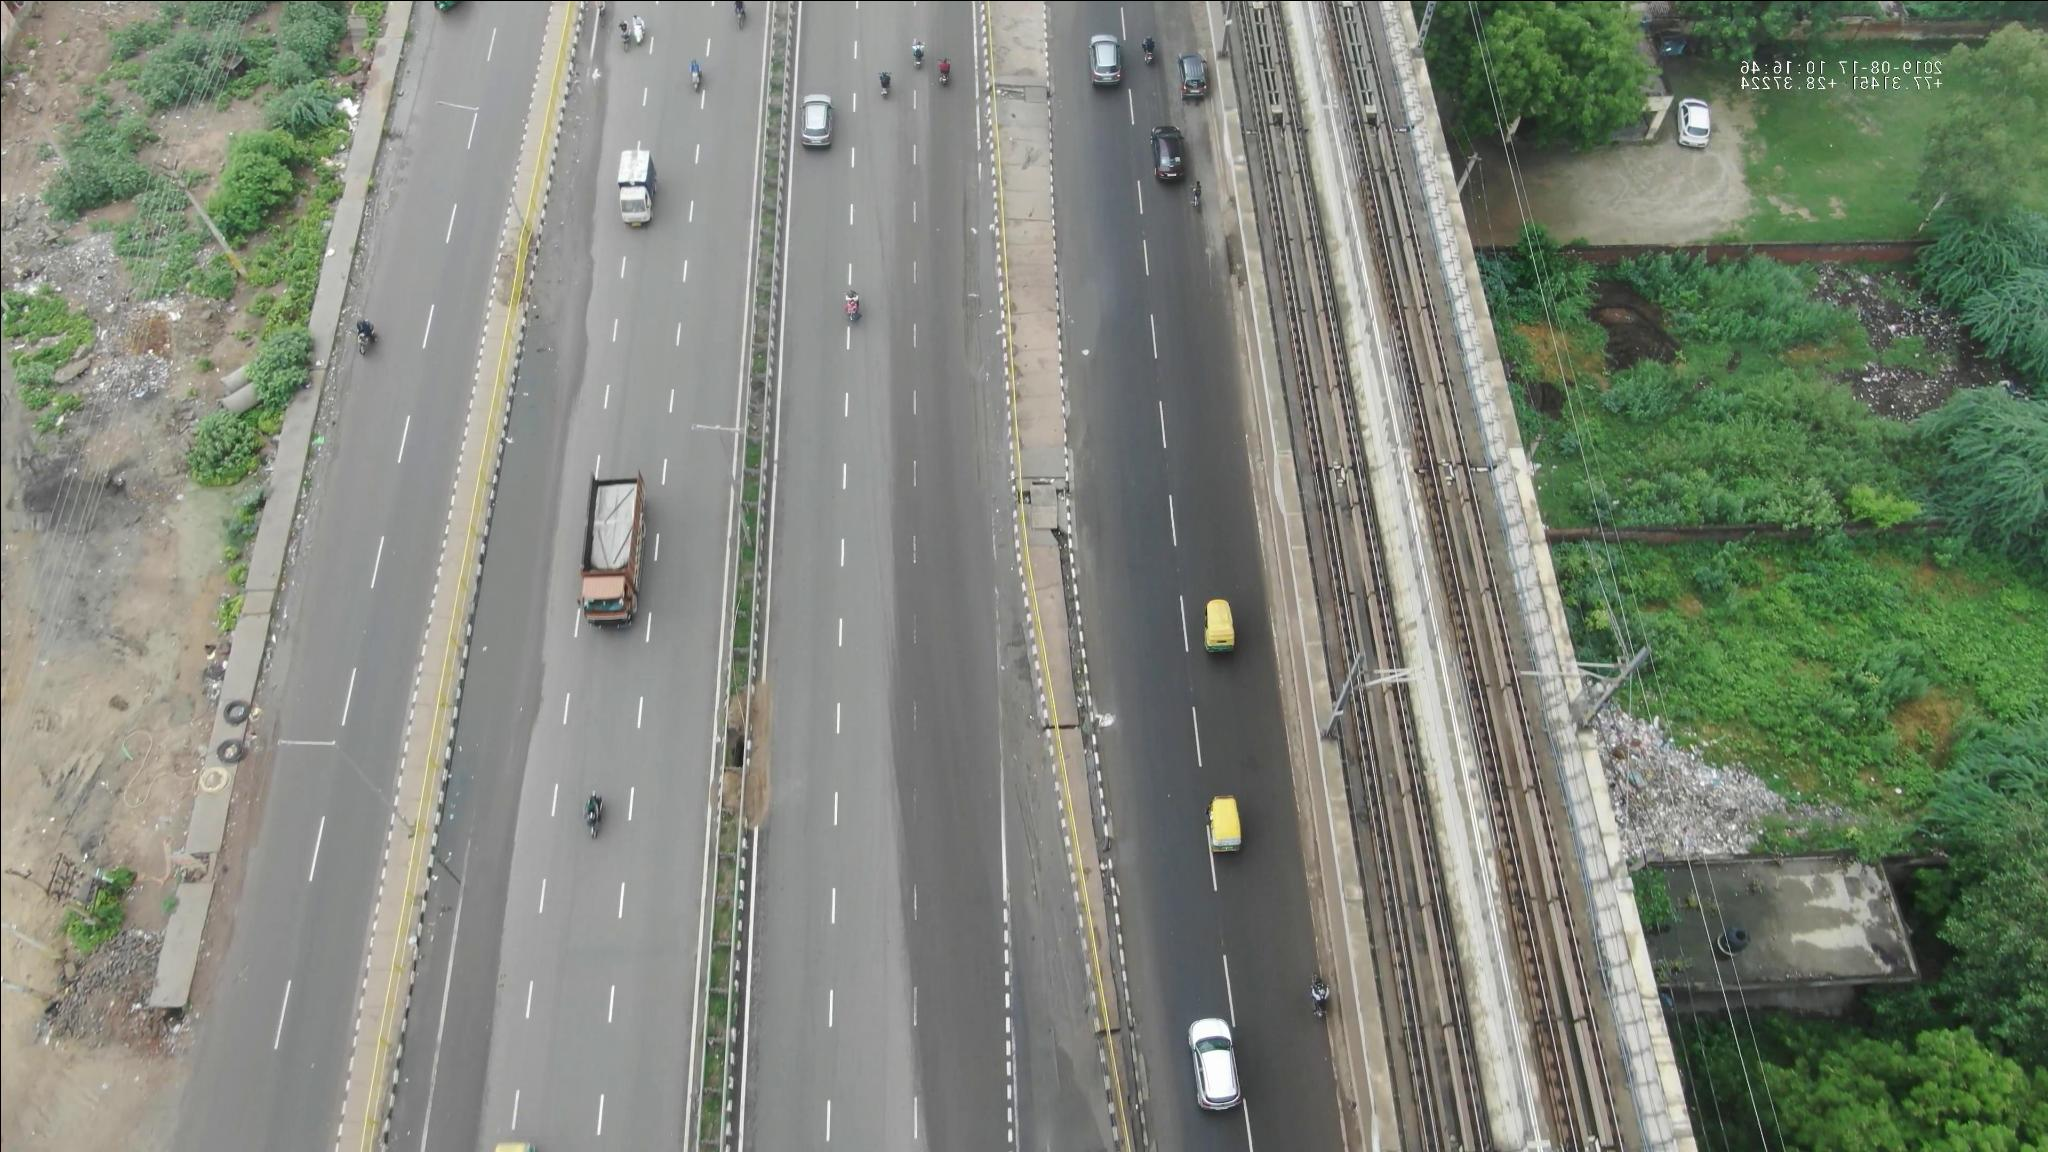Muddy_road: (1021, 760, 1086, 1016), (535, 179, 612, 373)
Waterlogging: (446, 390, 560, 843)
